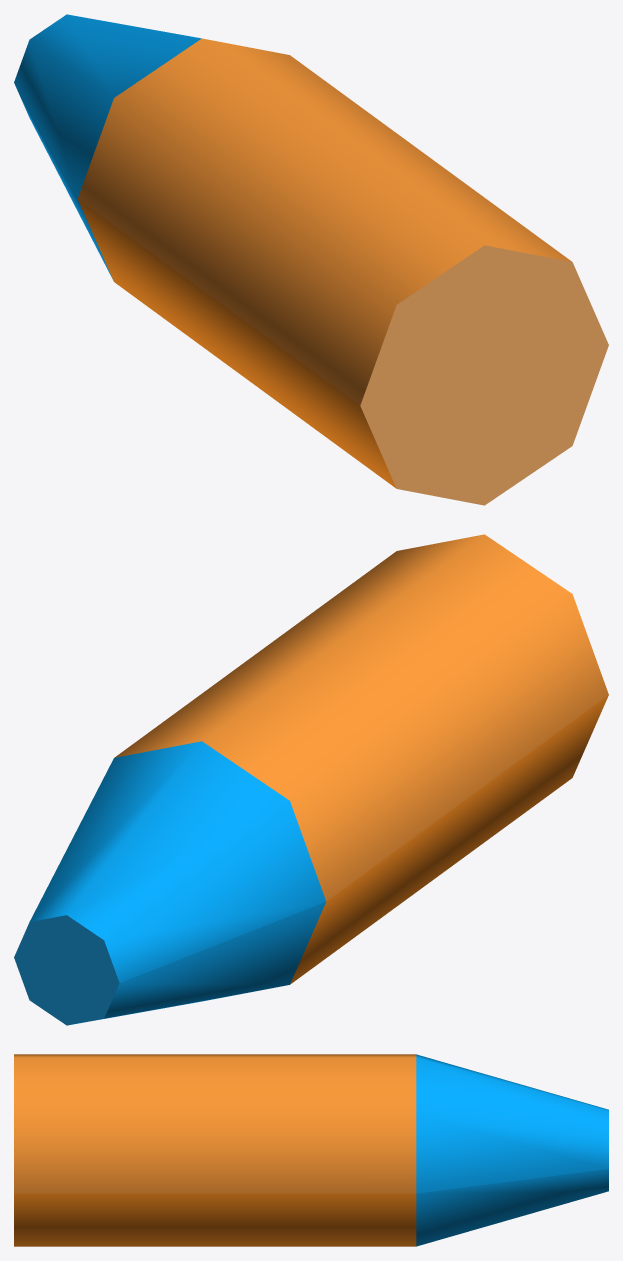
Rendered from bullet.fbx.
The picture shows the model from 3 angles, top to bottom: view 1: azimuth 30°, elevation 25°; view 2: azimuth 150°, elevation 25°; view 3: azimuth 270°, elevation 25°; orthographic projection. The views are drawn at different scales.
Parts seen in each view (by area): view 1: bullet; view 2: bullet; view 3: bullet.
Part boxes in pixels (box(x1,y1,x2,y2)): bullet: box(14, 14, 608, 505); bullet: box(14, 534, 608, 1025); bullet: box(14, 1054, 608, 1246).
Bounding box in the file's own units: 8.17 × 8.17 × 23.76.
Materials: 1 (1 with a texture image).
